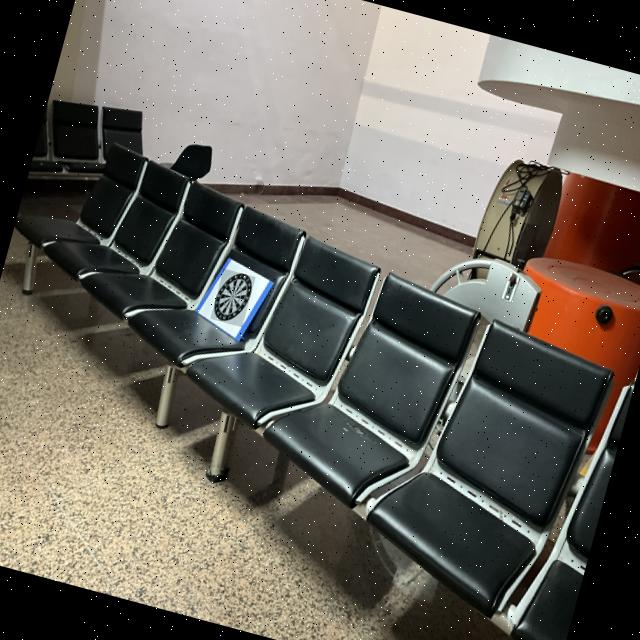archery-targets: (210, 268, 254, 328)
